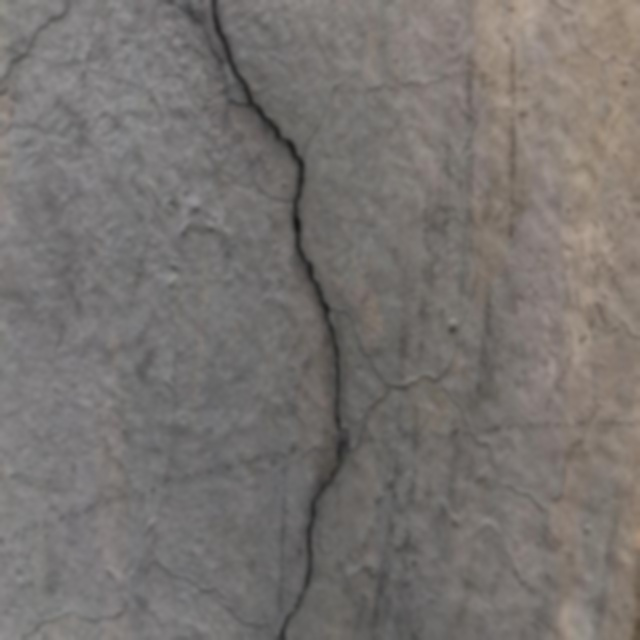SurfaceCrack: (158, 0, 383, 640)
